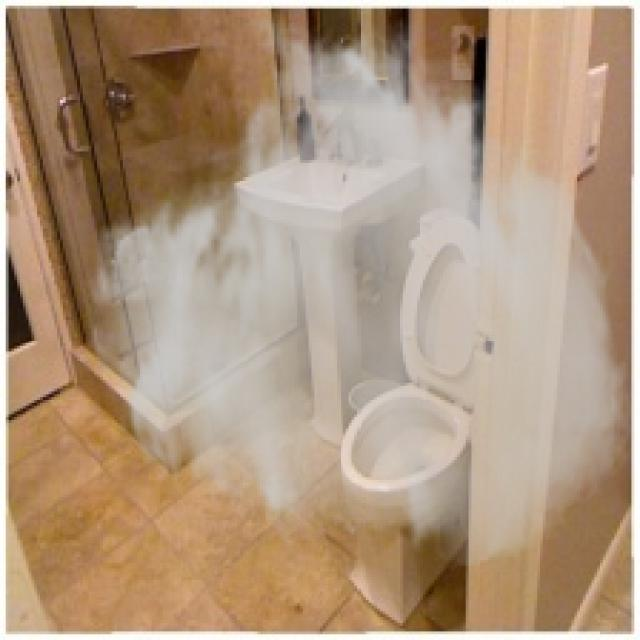smoke: (86, 6, 637, 571)
